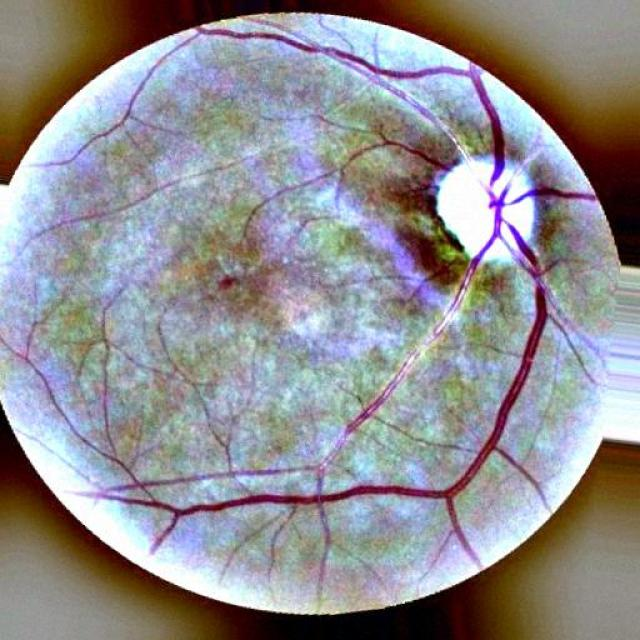Nerves: (151, 30, 595, 562)
Optic Disk: (436, 155, 532, 264)
